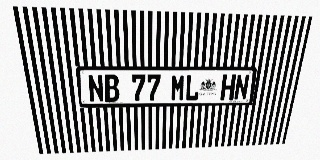7: (131, 74, 146, 102), (146, 74, 161, 101)
B: (103, 74, 120, 102)
H: (220, 74, 236, 100)
L: (185, 74, 200, 101)
M: (170, 74, 186, 101)
N: (87, 74, 104, 102), (233, 74, 250, 100)
